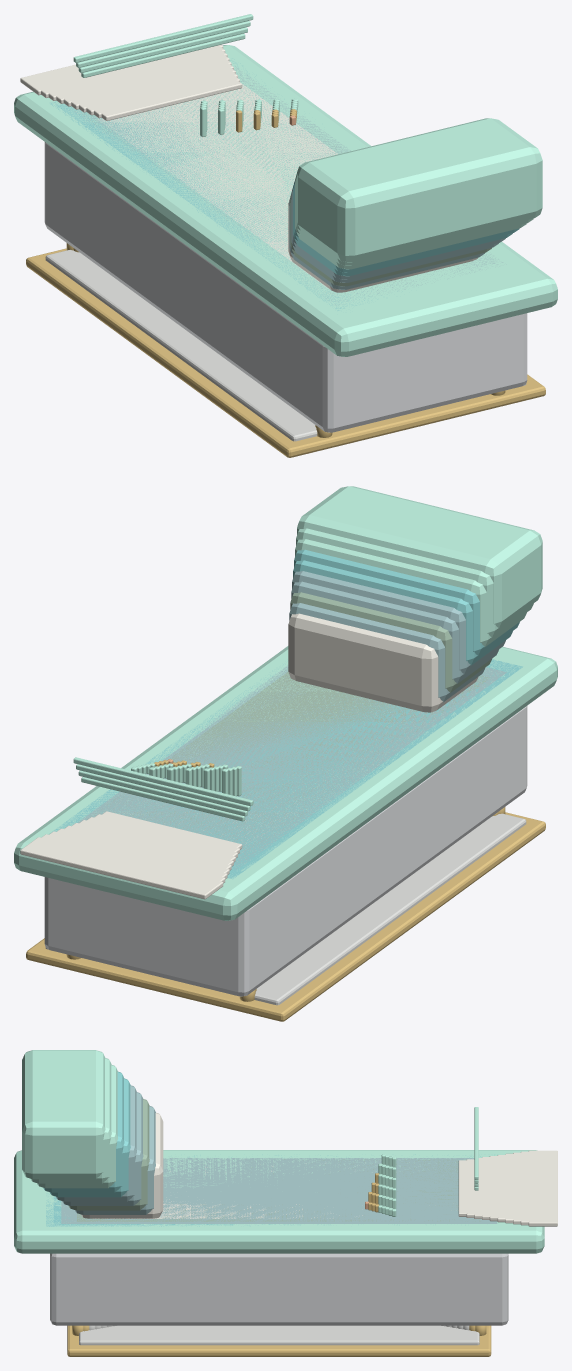
Rendered from Gear01.fbx.
3 renders of one model, top to bottom at view 1: azimuth 30°, elevation 25°; view 2: azimuth 150°, elevation 25°; view 3: azimuth 270°, elevation 25°, orthographic. The views are drawn at different scales.
Parts seen in each view (by area): view 1: Gear01_V10_Glow, Gear01_V10_Platinum, Gear01_V1_Linen, Gear01_V10_Gold, Gear01_V10_Chrome, Gear01_V6_Aqua, Gear01_V9_Glow, Gear01_V9_Chrome, Gear01_V2_Blue, Gear01_V8_Glow, Gear01_V9_Gold, Gear01_V5_Blue (+11 smaller); view 2: Gear01_V10_Platinum, Gear01_V10_Glow, Gear01_V4_Blue, Gear01_V7_Aqua, Gear01_V3_Sage, Gear01_V1_Linen, Gear01_V10_Gold, Gear01_V5_Blue, Gear01_V9_Glow, Gear01_V10_Chrome, Gear01_V6_Aqua, Gear01_V8_Glow (+10 smaller); view 3: Gear01_V10_Platinum, Gear01_V10_Glow, Gear01_V5_Blue, Gear01_V4_Blue, Gear01_V9_Glow, Gear01_V10_Gold, Gear01_V10_Chrome, Gear01_V2_Blue, Gear01_V3_Sage, Gear01_V8_Chrome, Gear01_V1_Linen, Gear01_V9_Chrome (+11 smaller).
Part boxes in pixels (bbox=[...]): Gear01_V10_Glow: bbox=[14, 14, 557, 356]; Gear01_V10_Platinum: bbox=[44, 142, 527, 432]; Gear01_V1_Linen: bbox=[90, 71, 477, 292]; Gear01_V10_Gold: bbox=[26, 243, 545, 457]; Gear01_V10_Chrome: bbox=[45, 250, 526, 441]; Gear01_V6_Aqua: bbox=[57, 85, 512, 310]; Gear01_V9_Glow: bbox=[33, 21, 533, 323]; Gear01_V9_Chrome: bbox=[51, 250, 316, 439]; Gear01_V2_Blue: bbox=[90, 81, 484, 292]; Gear01_V8_Glow: bbox=[44, 27, 526, 319]; Gear01_V9_Gold: bbox=[35, 248, 539, 447]; Gear01_V5_Blue: bbox=[96, 67, 506, 305]; Gear01_V10_Platinum: bbox=[44, 706, 527, 996]; Gear01_V10_Glow: bbox=[14, 486, 557, 920]; Gear01_V4_Blue: bbox=[77, 581, 498, 865]; Gear01_V7_Aqua: bbox=[49, 549, 522, 879]; Gear01_V3_Sage: bbox=[87, 592, 492, 848]; Gear01_V1_Linen: bbox=[90, 613, 478, 856]; Gear01_V10_Gold: bbox=[26, 807, 545, 1021]; Gear01_V5_Blue: bbox=[171, 571, 506, 869]; Gear01_V9_Glow: bbox=[41, 528, 539, 887]; Gear01_V10_Chrome: bbox=[45, 816, 526, 1005]; Gear01_V6_Aqua: bbox=[61, 560, 512, 874]; Gear01_V8_Glow: bbox=[78, 539, 526, 881]; Gear01_V10_Platinum: bbox=[50, 1253, 508, 1325]; Gear01_V10_Glow: bbox=[14, 1050, 544, 1253]; Gear01_V5_Blue: bbox=[56, 1085, 497, 1223]; Gear01_V4_Blue: bbox=[62, 1092, 488, 1222]; Gear01_V9_Glow: bbox=[30, 1058, 527, 1229]; Gear01_V10_Gold: bbox=[67, 1325, 491, 1356]; Gear01_V10_Chrome: bbox=[79, 1325, 479, 1345]; Gear01_V2_Blue: bbox=[75, 1106, 471, 1220]; Gear01_V3_Sage: bbox=[69, 1099, 480, 1221]; Gear01_V8_Chrome: bbox=[79, 1325, 479, 1338]; Gear01_V1_Linen: bbox=[81, 1112, 487, 1218]; Gear01_V9_Chrome: bbox=[265, 1325, 478, 1339].
Size of the model in its own units: 114 by 116 by 258.
